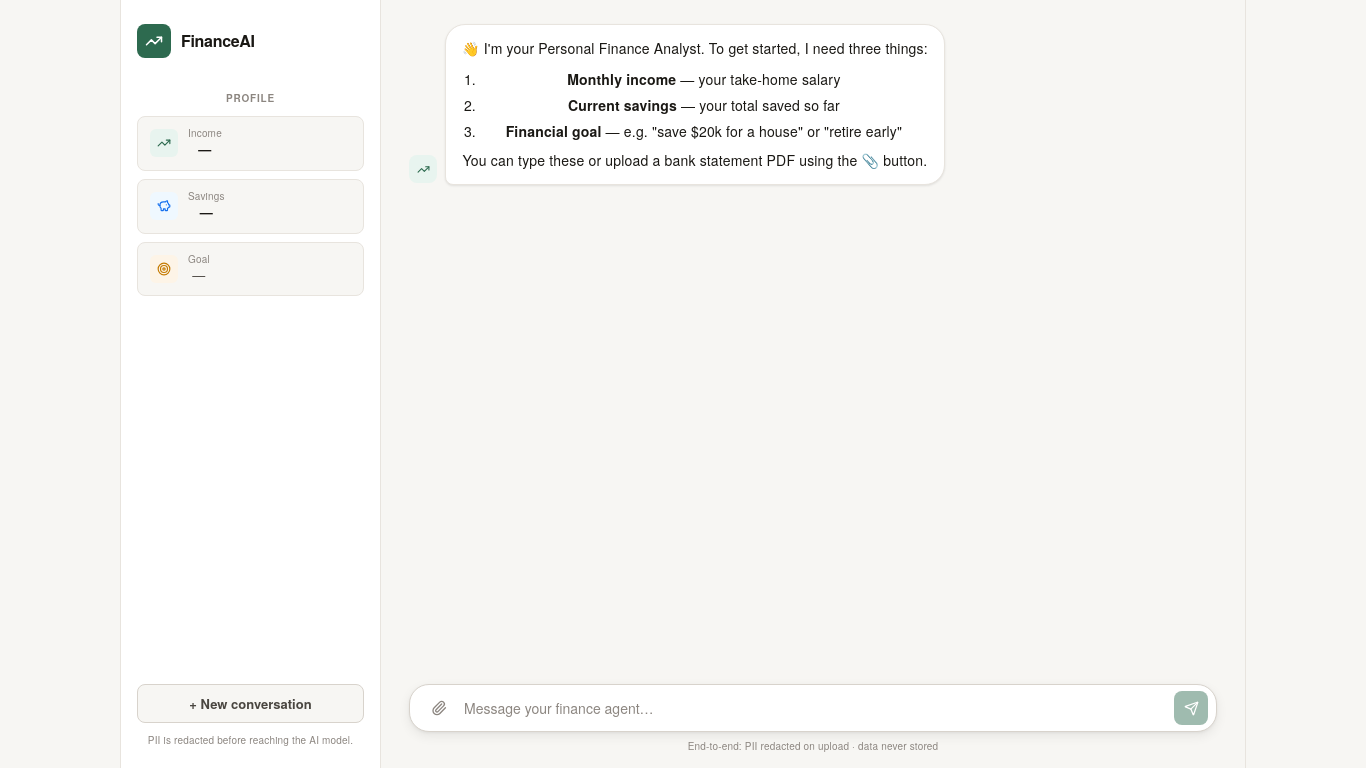
Test: App — new conversation › "+ New conversation" button clears the chat
Type "first message" into the field with placeholder "Message your finance agent…".
click(815, 708); type("first message")  # box [464,692,1166,724]
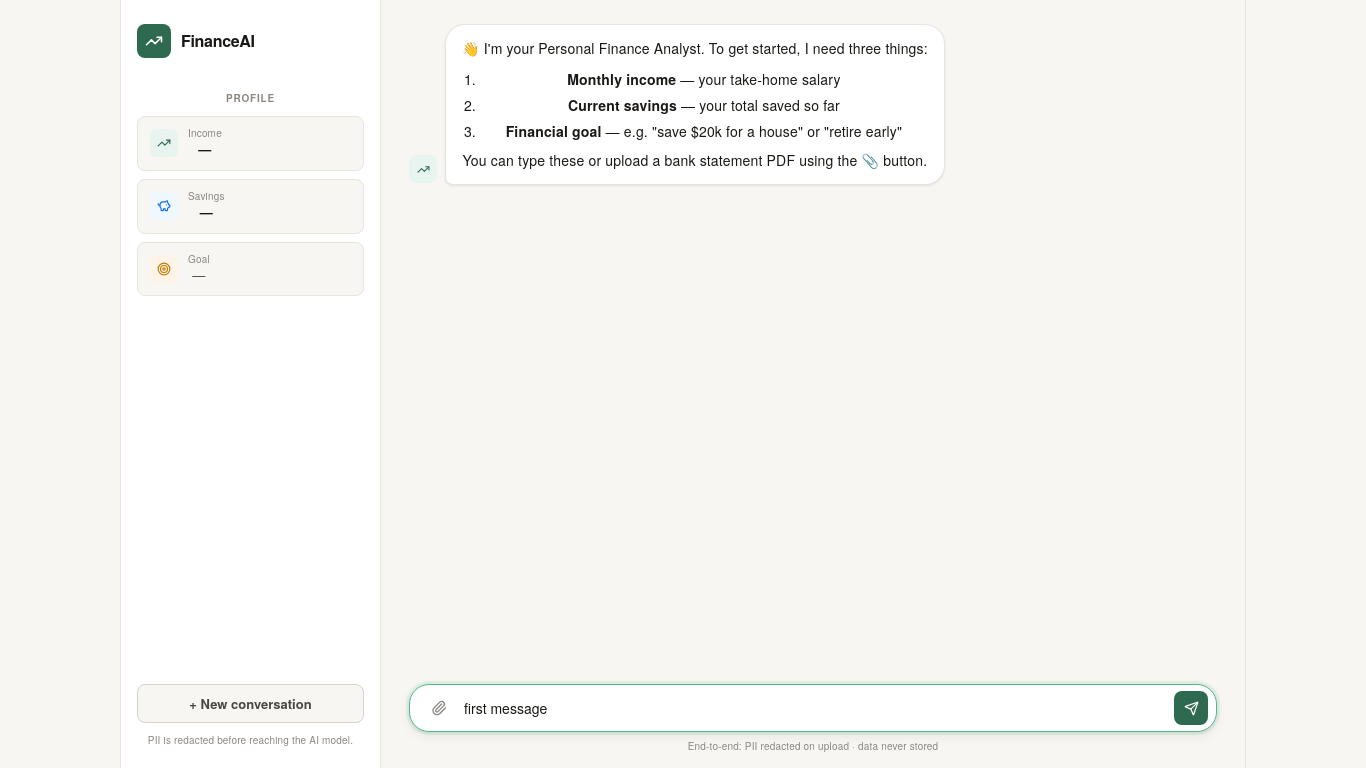
Press Enter in the field with placeholder "Message your finance agent…", box [464,692,1166,724]
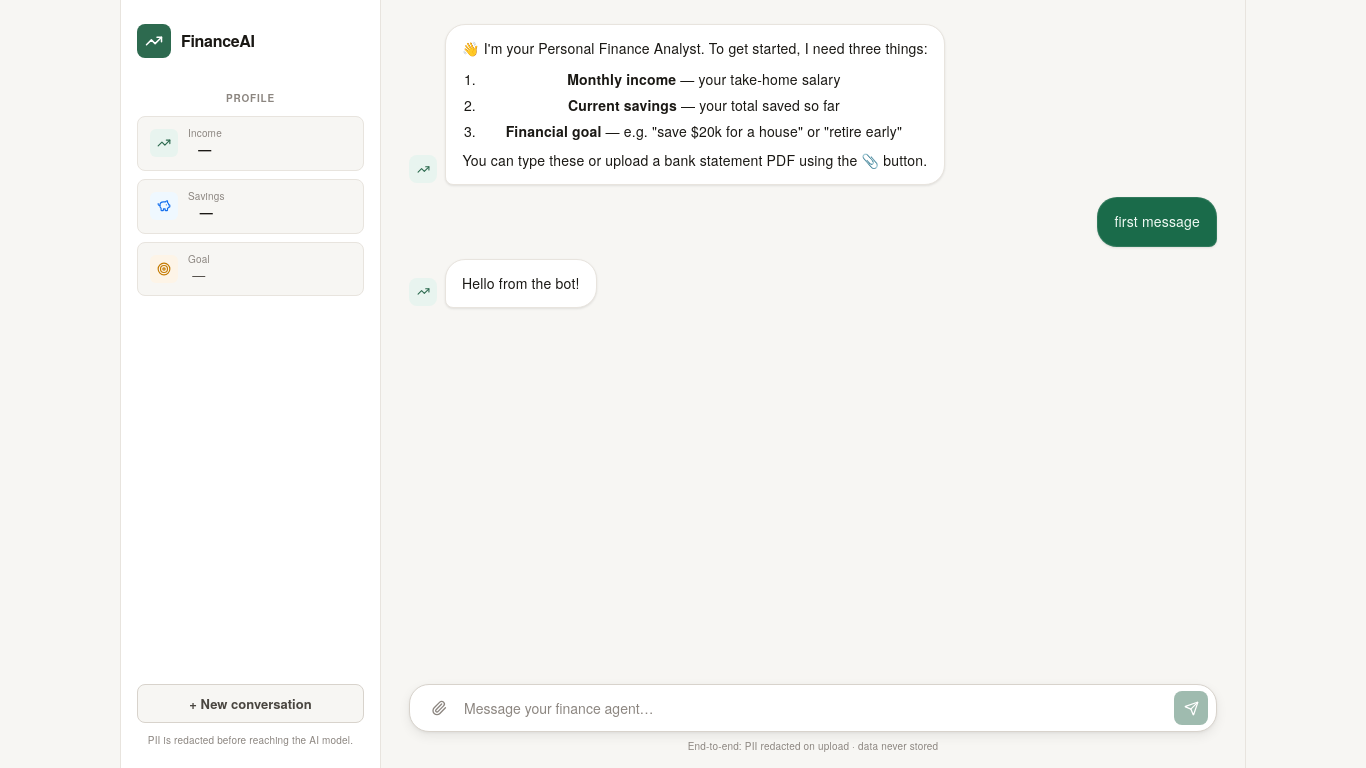
Expected: the text "first message" is shown, [1114,210,1200,234]
Click the button "+ New conversation".
click(250, 704)  # box [137,684,364,723]
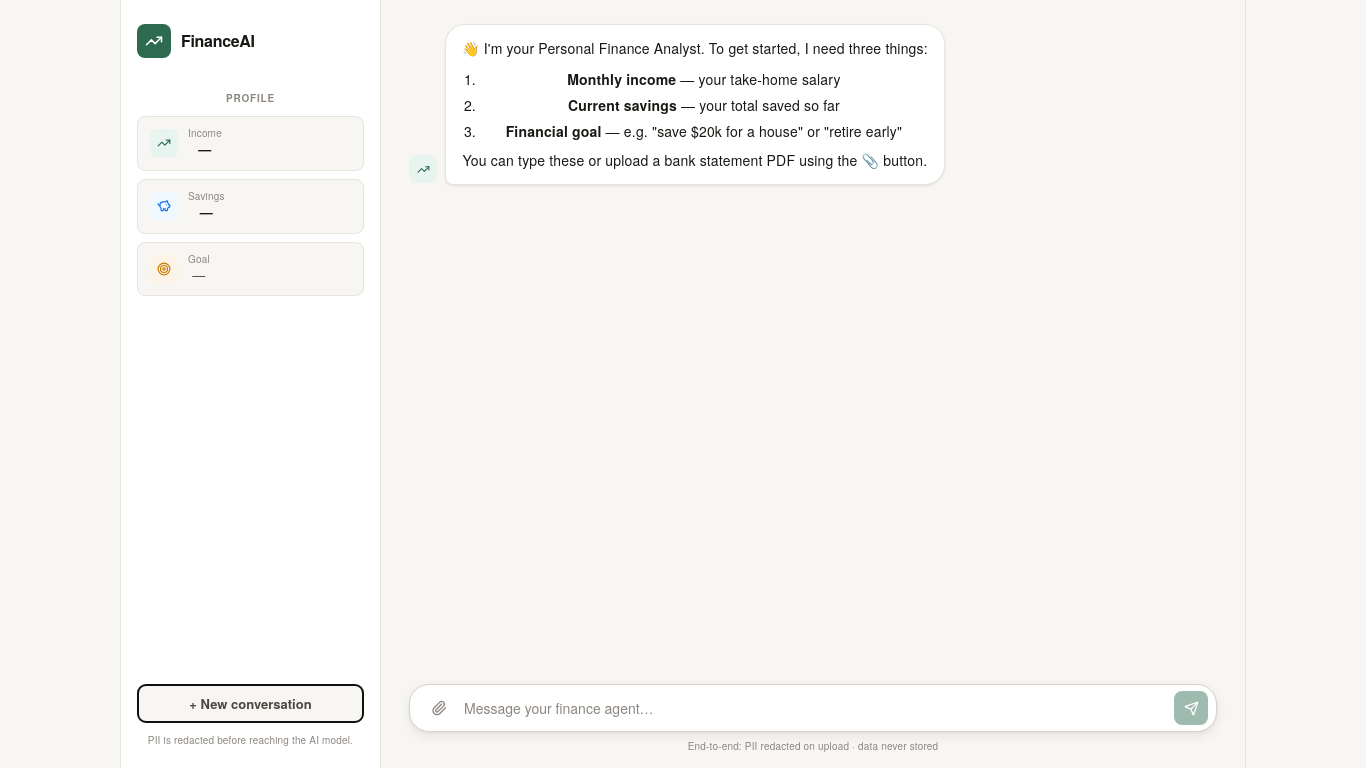
Expected: the text "first message" is gone
